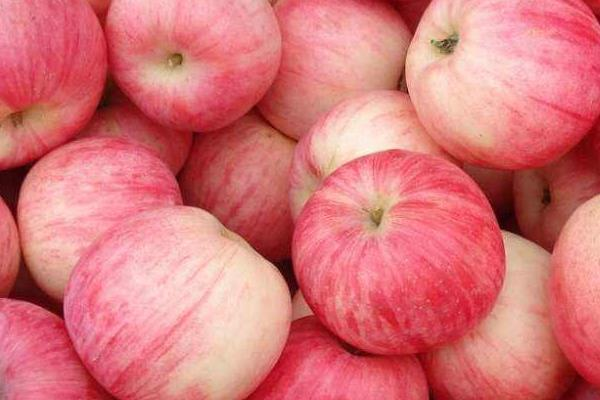apple: (60, 204, 292, 400), (289, 149, 509, 352), (406, 1, 600, 171), (287, 91, 511, 222), (18, 138, 182, 300), (430, 231, 578, 399), (104, 1, 282, 132), (260, 1, 413, 143), (178, 119, 304, 261), (1, 3, 107, 170), (252, 315, 427, 400), (1, 299, 104, 400), (508, 152, 600, 251)
